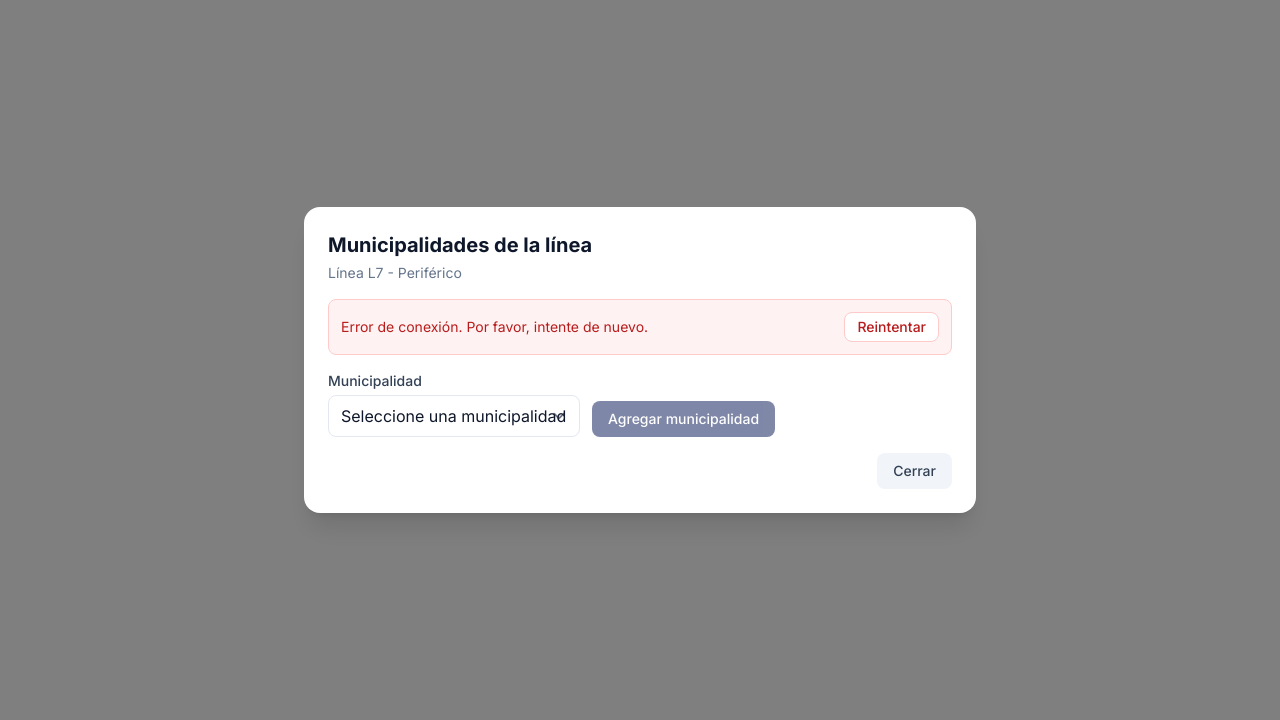
Test: LineaMunicipalidadesDialog › shows the load error with a retry button
Expected: the text "Error de conexión. Por favor, intente de nuevo." is shown, [341,317,648,337]
Click the button "Reintentar" at (892, 327), box [844,312,939,342]
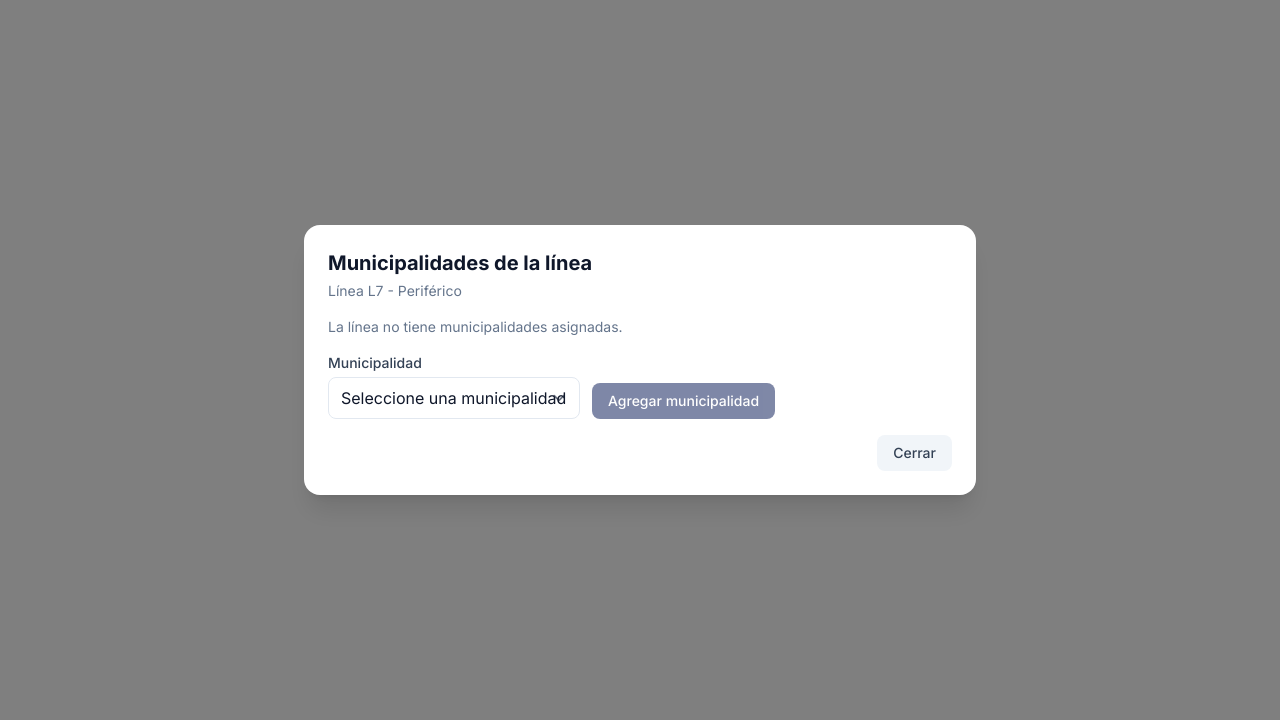
Expected: the text "La línea no tiene municipalidades asignadas." is shown, [328,318,623,335]
